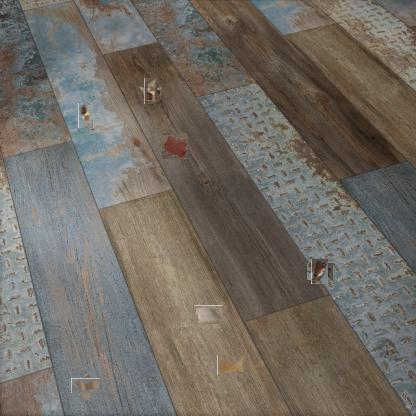dirty: (193, 305, 223, 324), (74, 375, 96, 396), (309, 261, 331, 282), (78, 102, 93, 128), (141, 82, 161, 101)
liquid: (162, 134, 188, 158), (217, 355, 246, 375)
